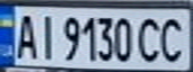0: (112, 14, 136, 63)
1: (78, 12, 96, 62)
3: (96, 14, 115, 62)
9: (57, 11, 81, 61)
A: (12, 10, 39, 60)
C: (157, 12, 190, 63), (136, 14, 166, 63)
I: (33, 10, 57, 61)
